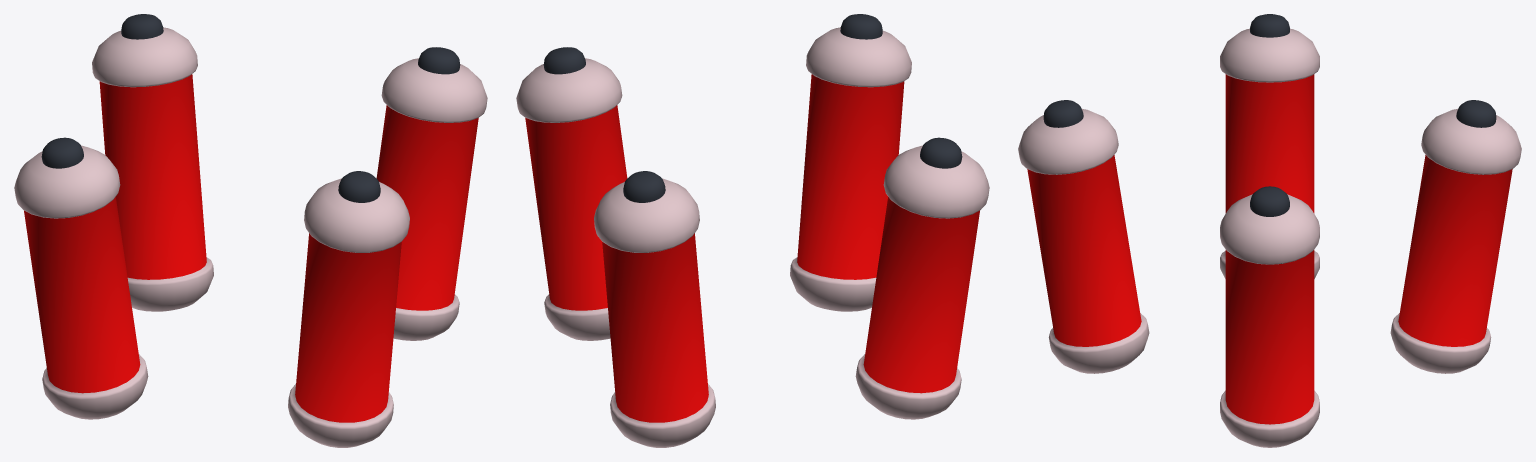
Rendered from sm_fuel.fbx.
3 renders of one model, left to right at view 1: azimuth 30°, elevation 25°; view 2: azimuth 150°, elevation 25°; view 3: azimuth 270°, elevation 25°, orthographic. The views are drawn at different scales.
Parts seen in each view (by area): view 1: Cannisters; view 2: Cannisters; view 3: Cannisters.
Part boxes in pixels (x1,y1,x2,y2): Cannisters: (14, 14, 487, 447); Cannisters: (516, 14, 989, 447); Cannisters: (1018, 14, 1521, 447).
Bounding box in the file's own units: 2813 × 1616 × 2813.
